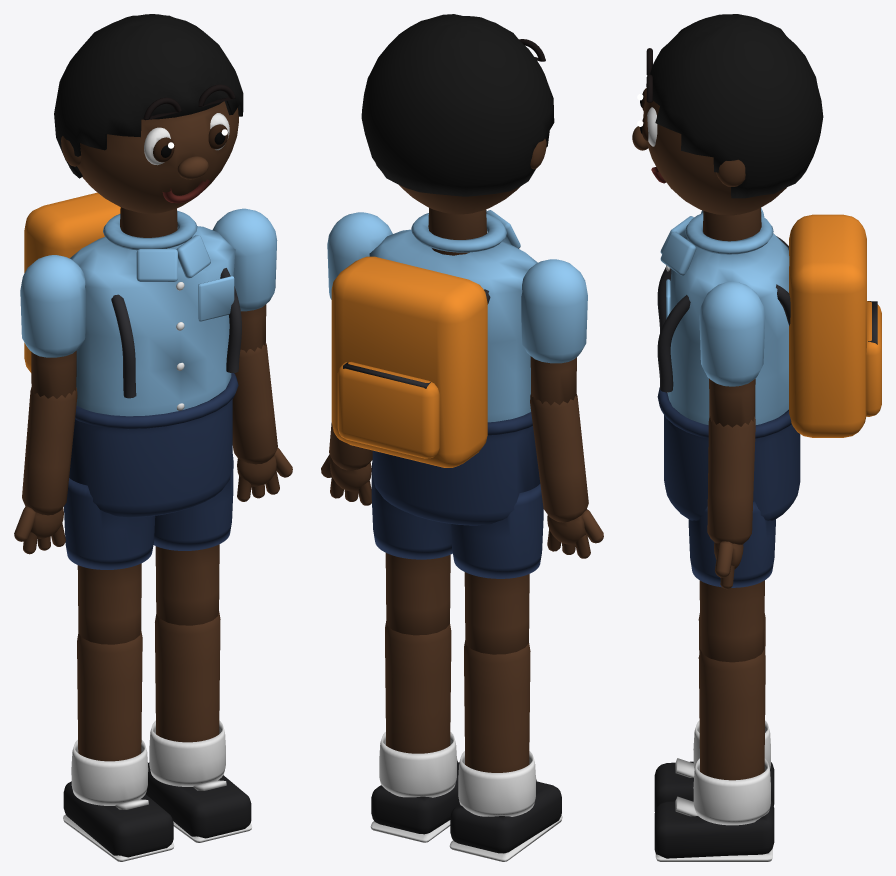
Rendered from child_a.glb.
3 renders of one model, left to right at view 1: azimuth 30°, elevation 25°; view 2: azimuth 150°, elevation 25°; view 3: azimuth 270°, elevation 25°, orthographic.
Parts seen in each view (by area): view 1: Torso, Head, Knee_R, Knee_L, Body, Hip_R, Hip_L, Shoulder_R, Elbow_R, Elbow_L, Shoulder_L; view 2: Torso, Head, Knee_R, Knee_L, Body, Hip_R, Hip_L, Shoulder_R, Elbow_R, Shoulder_L, Elbow_L; view 3: Torso, Head, Knee_L, Body, Hip_L, Shoulder_L, Elbow_L, Knee_R.
Boxes of the visible parts, x1,y1,x2,y2 form: Torso: (24, 192, 241, 416); Head: (54, 14, 243, 213); Knee_R: (63, 630, 174, 861); Knee_L: (145, 611, 252, 842); Body: (69, 373, 238, 517); Hip_R: (64, 478, 155, 644); Hip_L: (153, 454, 233, 625); Shoulder_R: (20, 255, 85, 398); Elbow_R: (14, 387, 77, 554); Elbow_L: (232, 342, 292, 501); Shoulder_L: (212, 208, 277, 352); Torso: (331, 208, 537, 467); Head: (361, 14, 554, 214); Knee_R: (449, 640, 562, 861); Knee_L: (370, 621, 459, 842); Body: (372, 412, 540, 525); Hip_R: (451, 484, 543, 654); Hip_L: (371, 460, 452, 635); Shoulder_R: (521, 259, 587, 405); Elbow_R: (530, 394, 603, 558); Shoulder_L: (327, 212, 392, 299); Elbow_L: (321, 422, 372, 505); Torso: (657, 208, 881, 437); Head: (632, 14, 823, 215); Knee_L: (654, 649, 774, 861); Body: (657, 387, 800, 520); Hip_L: (688, 501, 775, 662); Shoulder_L: (699, 281, 765, 427); Elbow_L: (707, 416, 755, 589); Knee_R: (654, 613, 774, 811).
Bounding box in the file's own units: 0.5402 × 1.49 × 0.4175.
